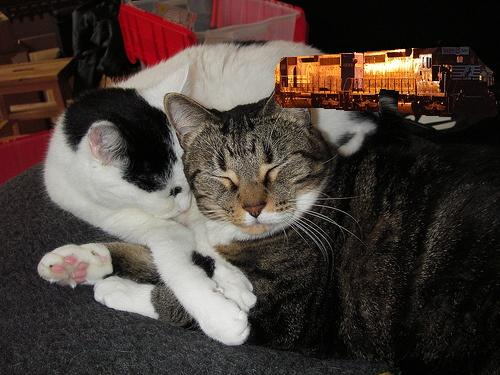tampered: (276, 47, 498, 117)
